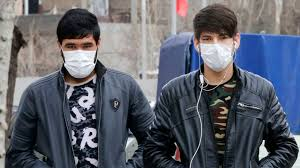with_mask: (58, 26, 106, 73), (194, 25, 243, 65)
